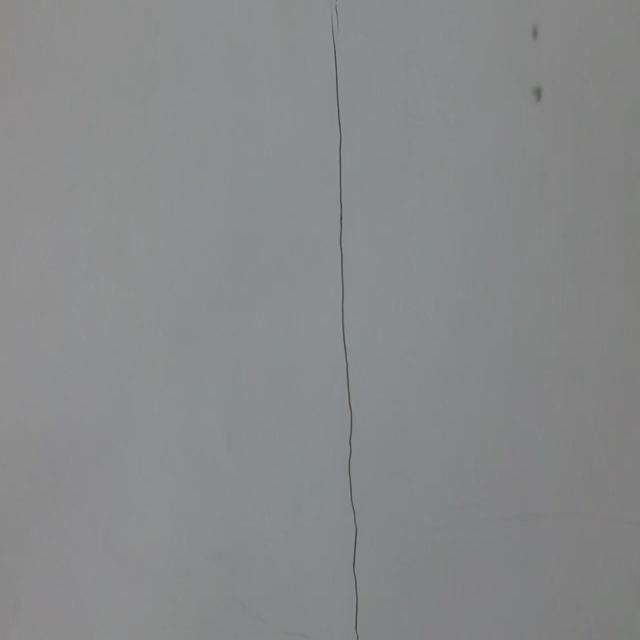Crack: (311, 14, 380, 640)
